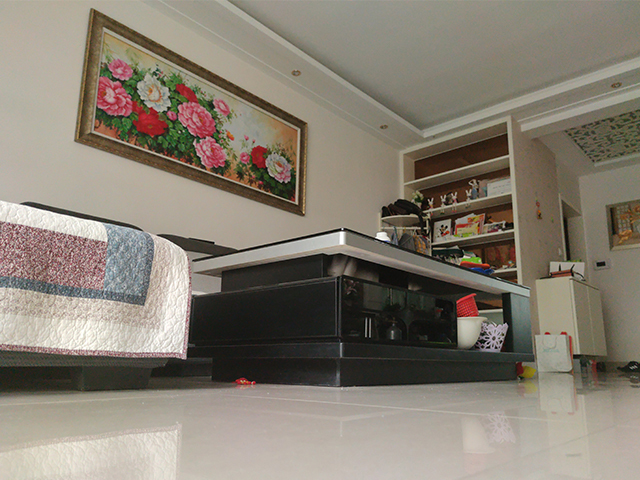sofa: (1, 176, 194, 394)
table: (192, 227, 540, 390)
